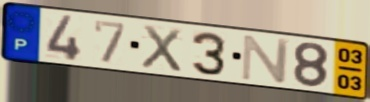3: (190, 30, 228, 77)
4: (44, 14, 84, 63)
7: (92, 19, 128, 66)
8: (292, 41, 331, 88)
N: (239, 34, 293, 85)
X: (139, 23, 184, 74)
